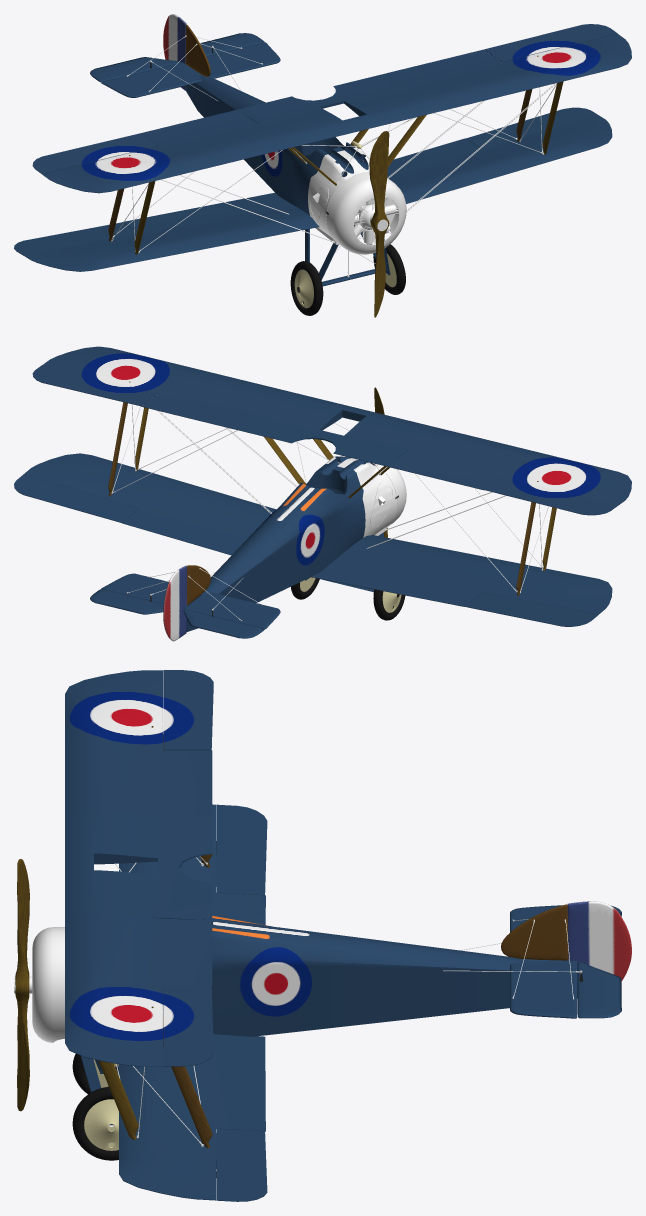
Rendered from sopwith.glb.
The picture shows the model from 3 angles, top to bottom: view 1: azimuth 30°, elevation 25°; view 2: azimuth 150°, elevation 25°; view 3: azimuth 270°, elevation 25°; orthographic projection. The views are drawn at different scales.
Parts seen in each view (by area): view 1: Plane.005, Plane.007, Cylinder.001, Plane.006, Plane.002, Plane.008, Cylinder, Plane.012, Plane.003, BezierCircle, Plane, Cylinder.006 (+7 smaller); view 2: Plane.007, Plane.005, Cylinder.001, Plane.006, Plane.008, Plane.002, Plane.003, Plane, Cylinder.011, BezierCircle, Plane.001, Cylinder.006 (+4 smaller); view 3: Plane.005, Cylinder.001, Plane.007, Plane.006, Plane.008, Plane.002, Plane, Cylinder, Plane.012, Plane.001, Plane.003, BezierCircle (+3 smaller).
Boxes of the visible parts, left/top/right/bottom form: Plane.005: left=32, top=24, right=631, bottom=193; Plane.007: left=23, top=115, right=612, bottom=271; Cylinder.001: left=185, top=75, right=396, bottom=244; Plane.006: left=238, top=73, right=439, bottom=147; Plane.002: left=101, top=42, right=280, bottom=97; Plane.008: left=14, top=107, right=597, bottom=255; Cylinder: left=326, top=172, right=406, bottom=254; Plane.012: left=369, top=131, right=389, bottom=317; Plane.003: left=90, top=33, right=264, bottom=82; BezierCircle: left=290, top=244, right=405, bottom=315; Plane: left=163, top=14, right=186, bottom=90; Cylinder.006: left=134, top=81, right=563, bottom=254; Plane.007: left=24, top=453, right=612, bottom=614; Plane.005: left=32, top=346, right=631, bottom=515; Cylinder.001: left=186, top=456, right=397, bottom=631; Plane.006: left=237, top=391, right=439, bottom=466; Plane.008: left=14, top=474, right=597, bottom=626; Plane.002: left=101, top=573, right=280, bottom=629; Plane.003: left=90, top=589, right=264, bottom=638; Plane: left=163, top=565, right=186, bottom=641; Cylinder.011: left=108, top=381, right=538, bottom=595; BezierCircle: left=291, top=578, right=405, bottom=620; Plane.001: left=187, top=565, right=210, bottom=605; Cylinder.006: left=134, top=407, right=556, bottom=570; Plane.005: left=65, top=670, right=213, bottom=1066; Cylinder.001: left=163, top=915, right=525, bottom=1036; Plane.007: left=118, top=804, right=265, bottom=1200; Plane.006: left=65, top=810, right=212, bottom=919; Plane.008: left=216, top=804, right=267, bottom=1201; Plane.002: left=510, top=905, right=577, bottom=1018; Plane: left=567, top=901, right=631, bottom=998; Cylinder: left=32, top=927, right=64, bottom=1042; Plane.012: left=15, top=859, right=29, bottom=1111; Plane.001: left=501, top=904, right=568, bottom=960; Plane.003: left=577, top=905, right=621, bottom=1018; BezierCircle: left=72, top=1054, right=118, bottom=1160.
Size of the model in its own units: 644 by 209 by 425.
Materials: 15 (8 with a texture image).
